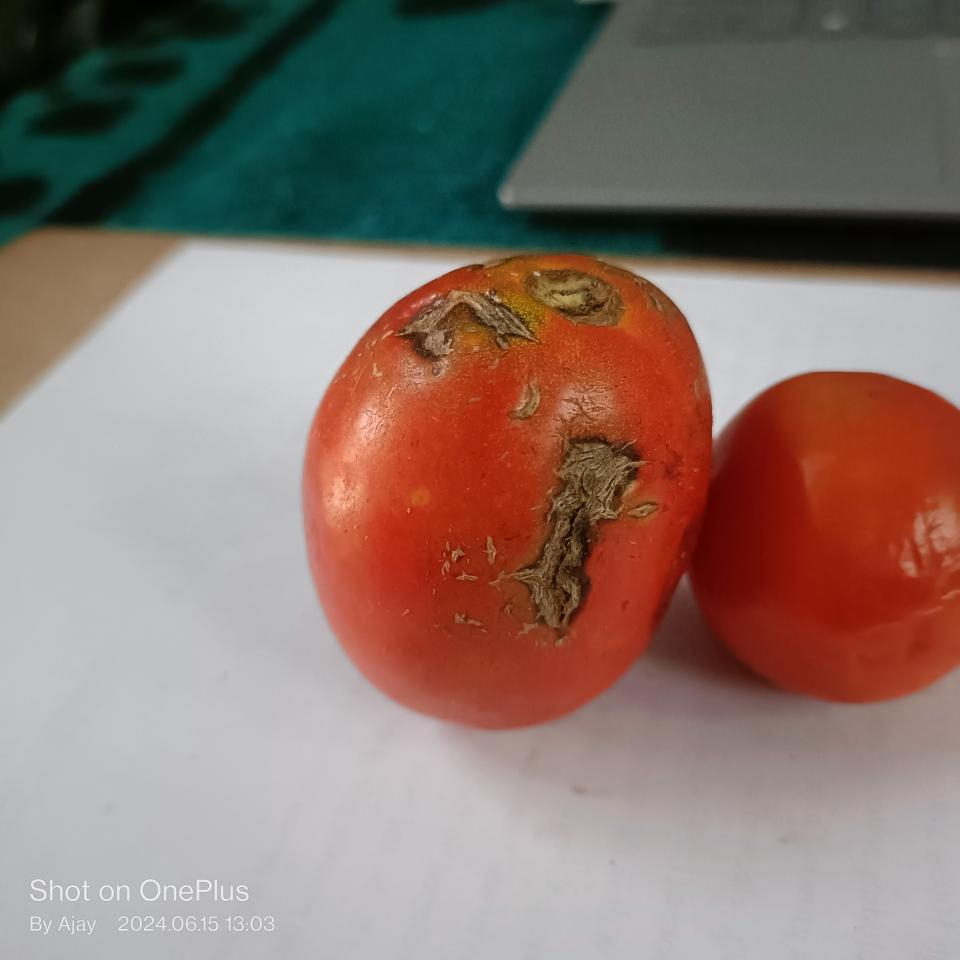Bacterial_Spot: (520, 427, 648, 639), (396, 296, 526, 360), (534, 270, 627, 332), (507, 377, 550, 418), (441, 548, 480, 589)
